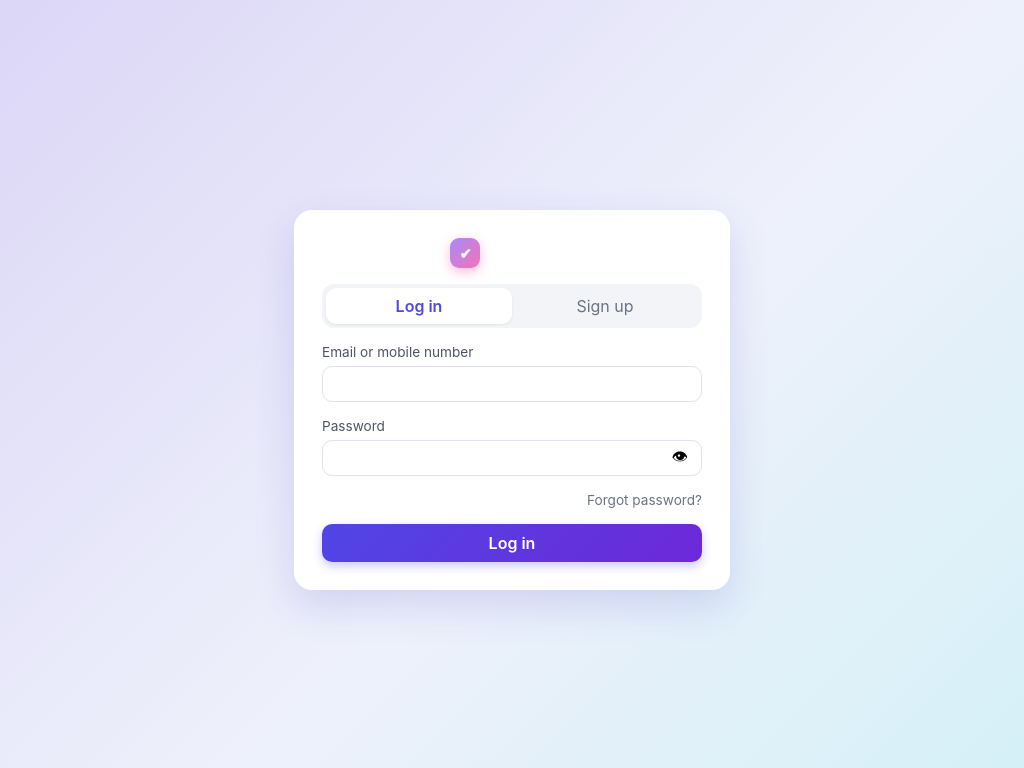
Scenario: AuthPage login › shows the API error when login fails
The image size is (1024, 768).
Type "divya@example.com" into the field labelled "Email or mobile number".
click(512, 384); type("divya@example.com")  # box left=322, top=366, right=702, bottom=402
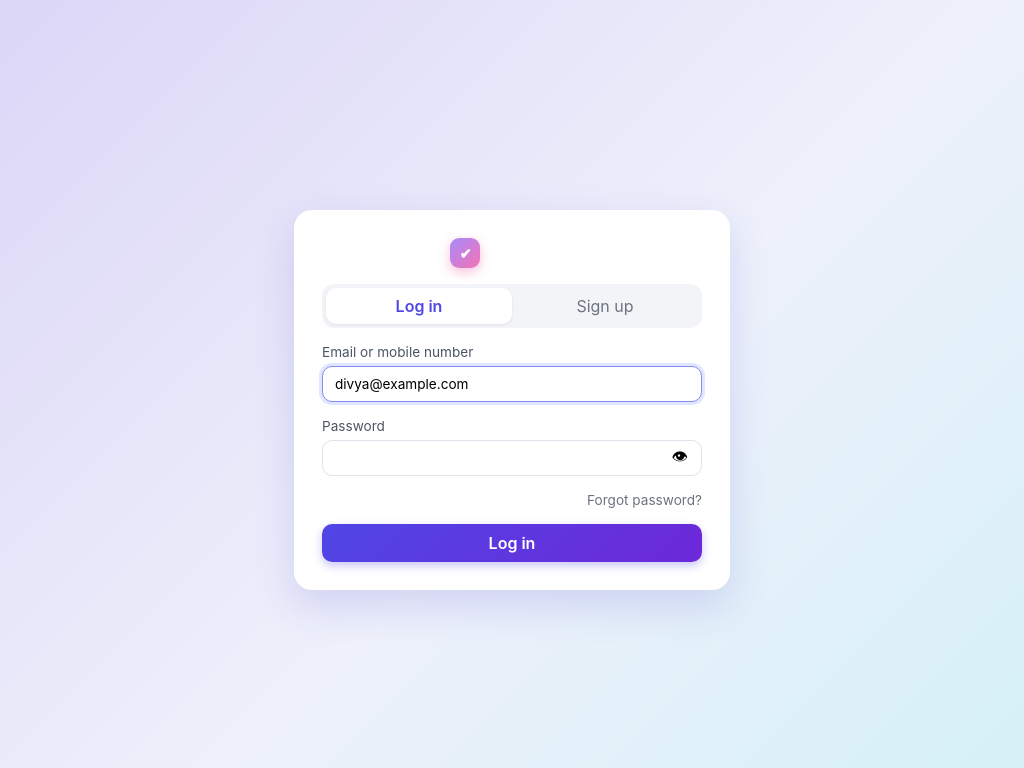
Type "wrong" into the password field labelled "Password 👁".
click(512, 458); type("wrong")  # box left=322, top=440, right=702, bottom=476
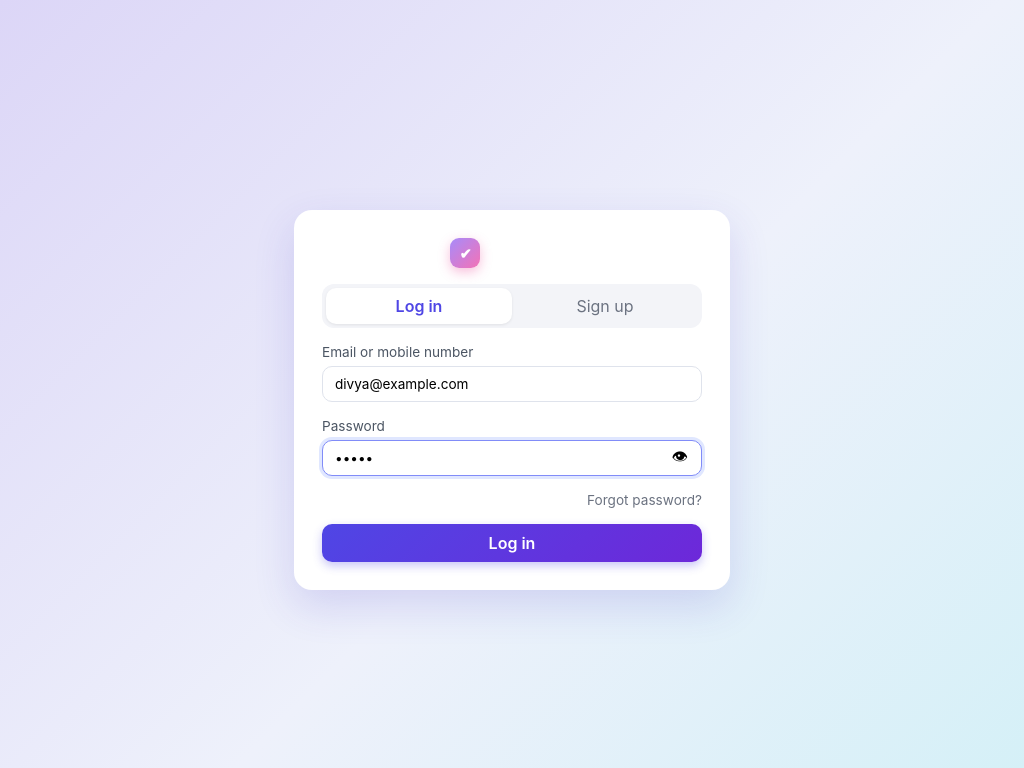
Click the 2nd button "Log in".
click(512, 543)  # box left=322, top=524, right=702, bottom=562
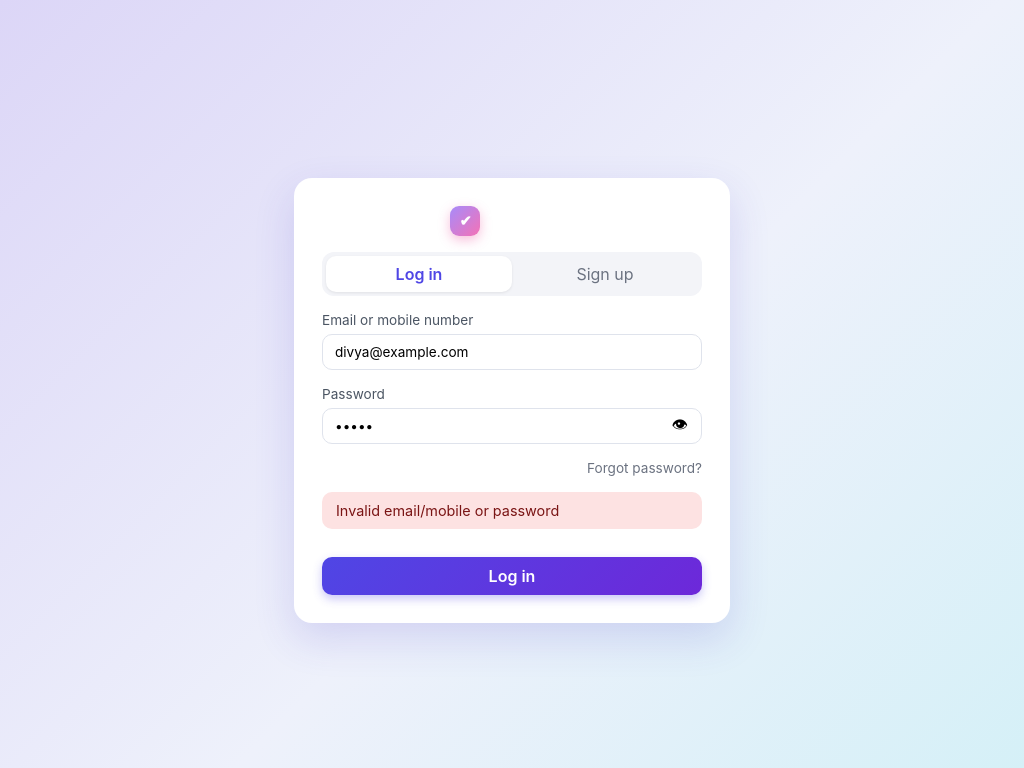
Check: the text "Invalid email/mobile or password" is shown, box left=322, top=492, right=702, bottom=528
